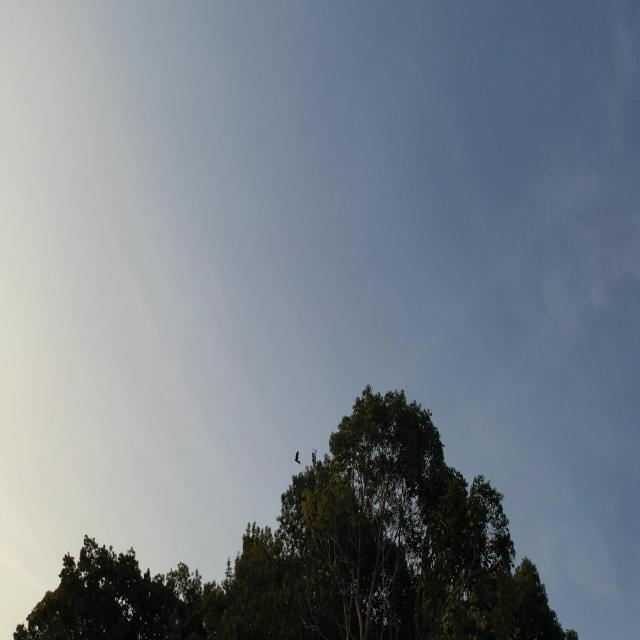Birds: (288, 443, 338, 521)
